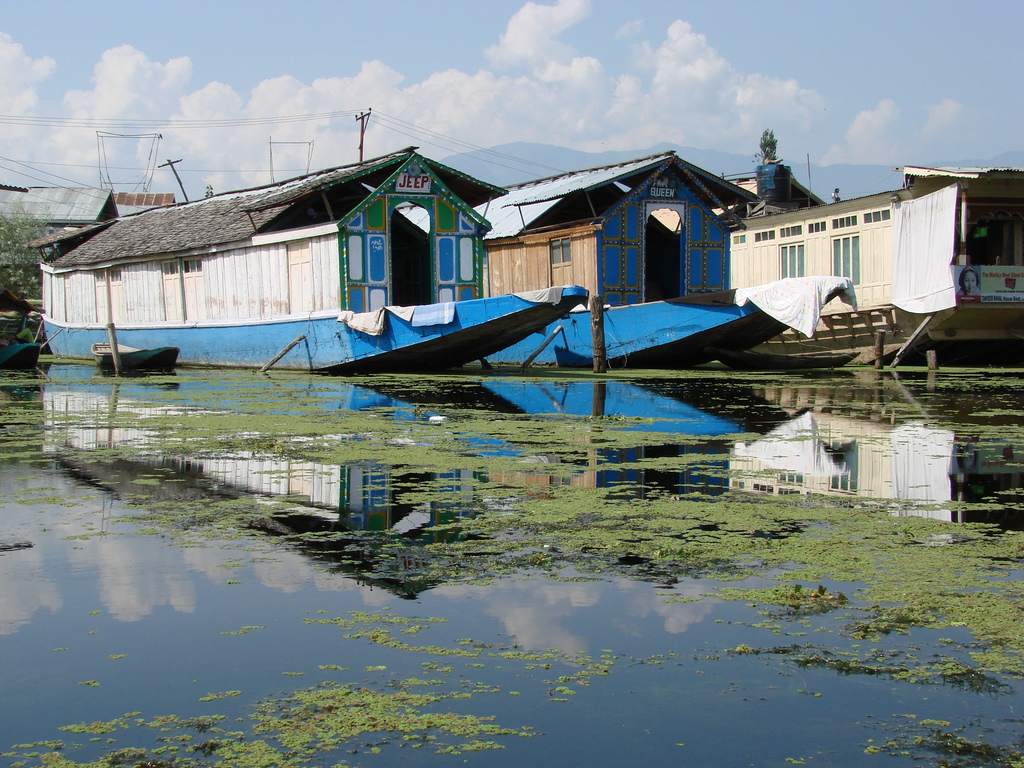boat: (24, 134, 604, 401), (449, 144, 863, 399)
